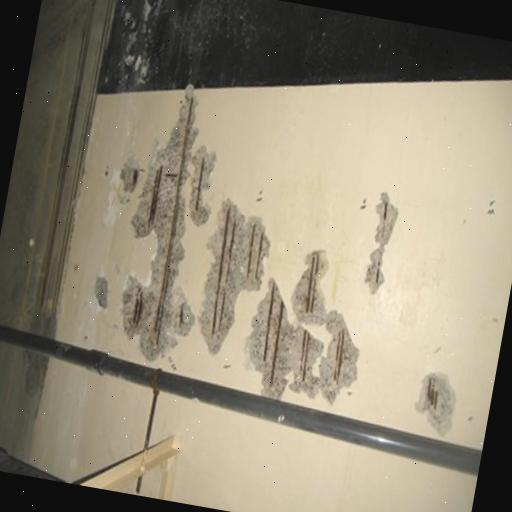spalling: (118, 91, 219, 364), (248, 247, 363, 403), (198, 200, 268, 356), (365, 195, 403, 294), (420, 375, 459, 437)
